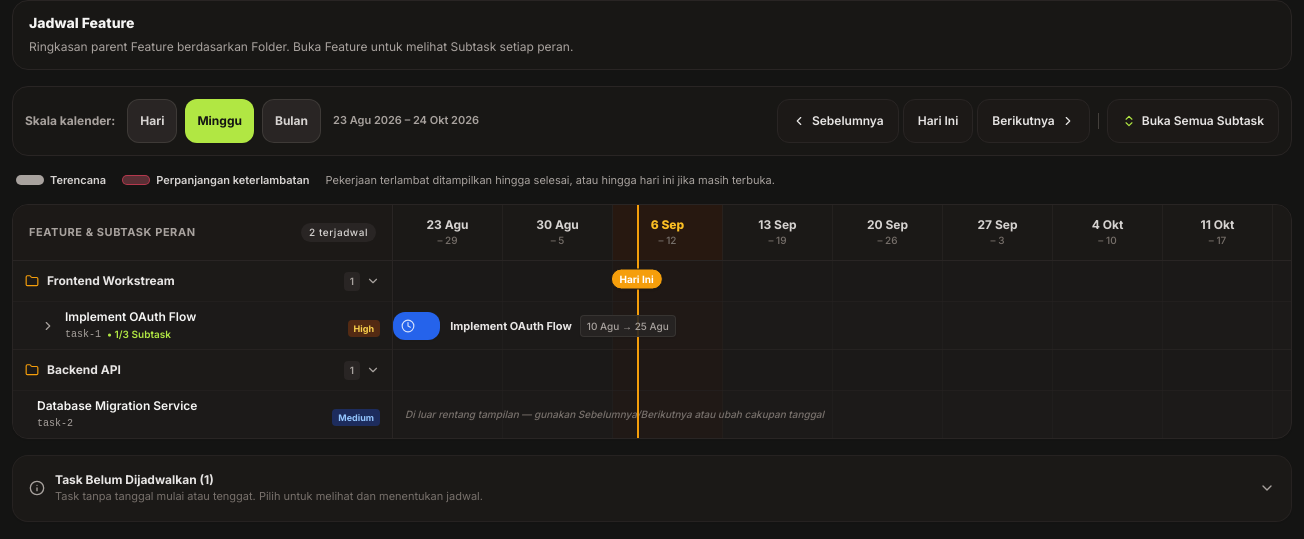
Test case: TaskTimelineView › renders scheduled tasks in folder groups and supports time scale switching
The image size is (1304, 539).
Expected: the text "Frontend Workstream" is shown, x1=47 y1=273 x2=175 y2=289
Expected: the text "Backend API" is shown, x1=47 y1=362 x2=121 y2=378
Click the button "Hari". click: (152, 120)
box: x1=127 y1=98 x2=177 y2=142
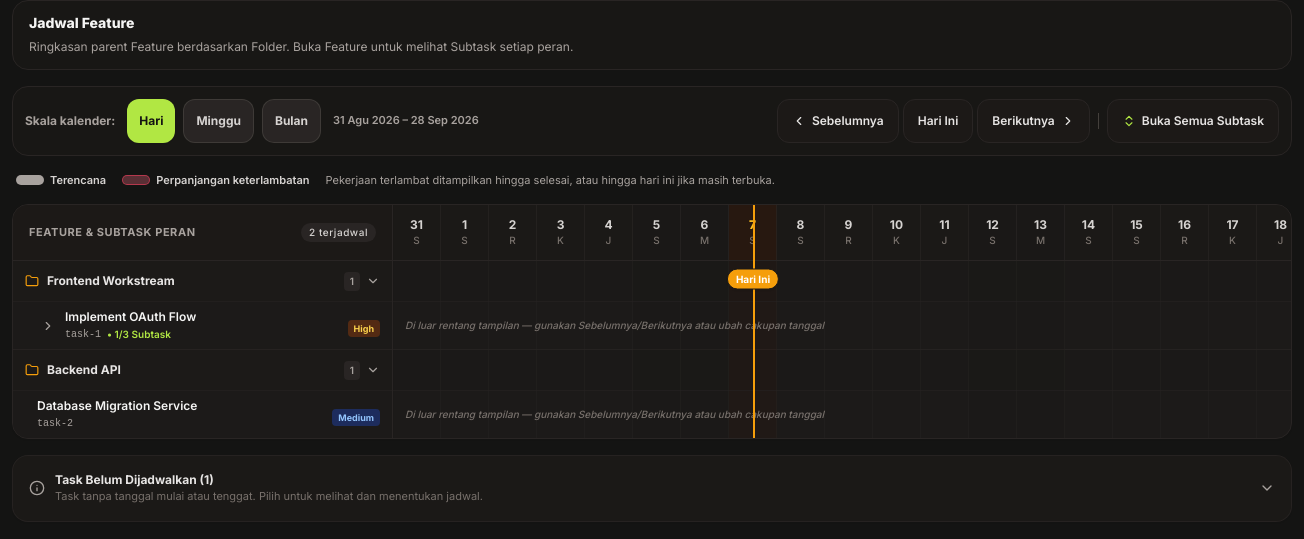
Result: the text "31 Agu 2026 – 28 Sep 2026" is shown at x1=333 y1=112 x2=479 y2=129
Click the button with aria-label "rentang kalender berikutnya". click: (1034, 120)
box: x1=977 y1=98 x2=1090 y2=142
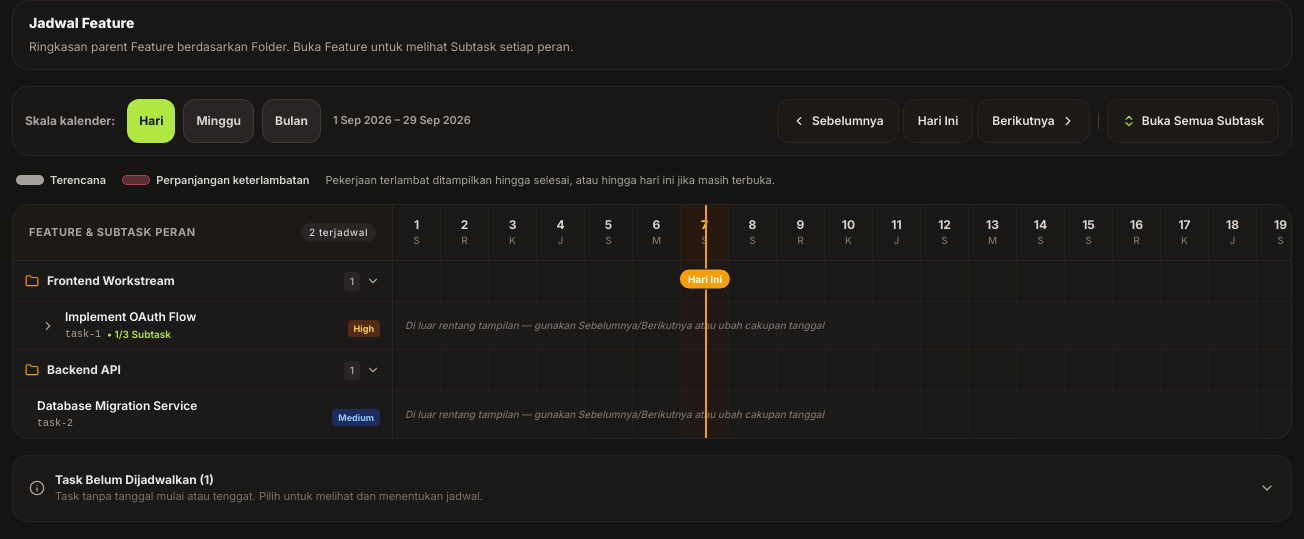
Result: the text "1 Sep 2026 – 29 Sep 2026" is shown at x1=333 y1=112 x2=471 y2=129
Click the button "Bulan". click: (291, 120)
box: x1=262 y1=98 x2=321 y2=142
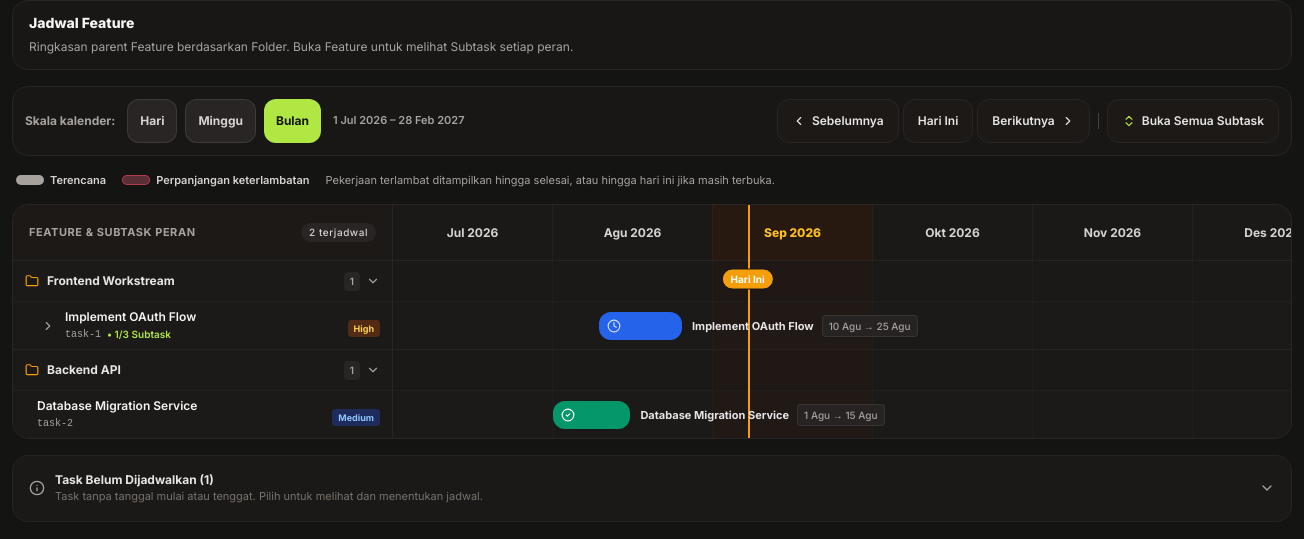
Result: the text "1 Jul 2026 – 28 Feb 2027" is shown at x1=333 y1=112 x2=464 y2=129
